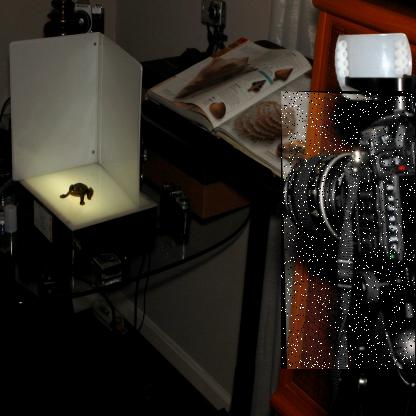Camera: (282, 92, 416, 371)
